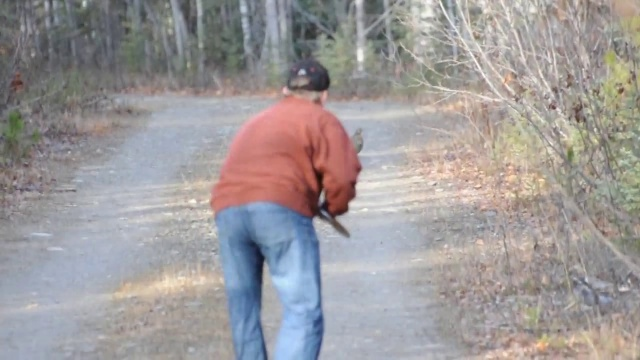person: (214, 57, 364, 360)
